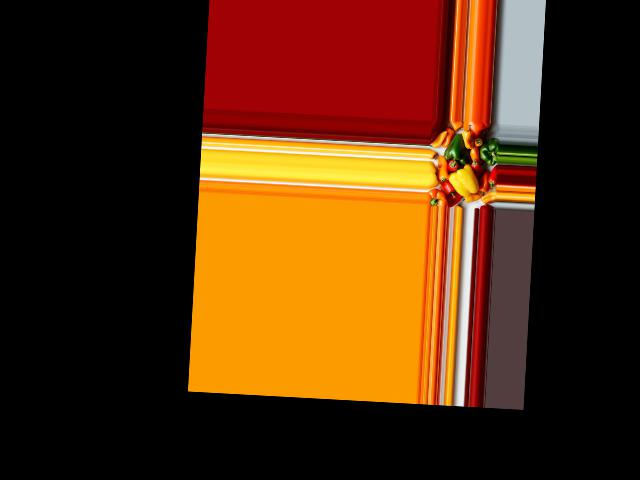bell_pepper: (485, 166, 498, 189)
